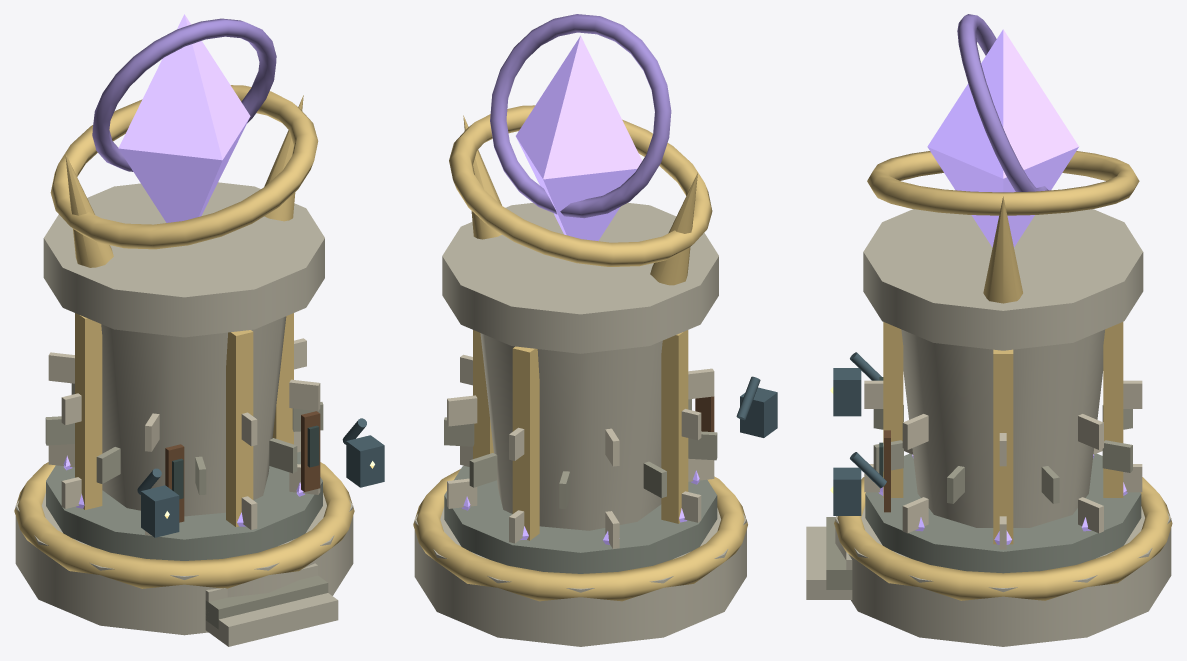
The model's file is tower-arcane-1-base.glb.
3 views of the same model, side by side, from view 1: azimuth 30°, elevation 25°; view 2: azimuth 150°, elevation 25°; view 3: azimuth 270°, elevation 25° (orthographic).
Parts seen in each view (by area): view 1: Foundation, Turret, arcane-L1-base; view 2: Turret, Foundation, arcane-L1-base; view 3: Foundation, Turret, arcane-L1-base.
Part boxes in pixels (<box>): Foundation: <box>14,313,384,646</box>; Turret: <box>43,14,324,337</box>; arcane-L1-base: <box>15,451,353,635</box>; Turret: <box>442,14,718,353</box>; Foundation: <box>413,330,777,601</box>; arcane-L1-base: <box>414,466,746,646</box>; Foundation: <box>806,322,1172,600</box>; Turret: <box>863,14,1143,350</box>; arcane-L1-base: <box>835,453,1171,646</box>.
Bounding box in the file's own units: 1.69 × 3.05 × 1.83.
